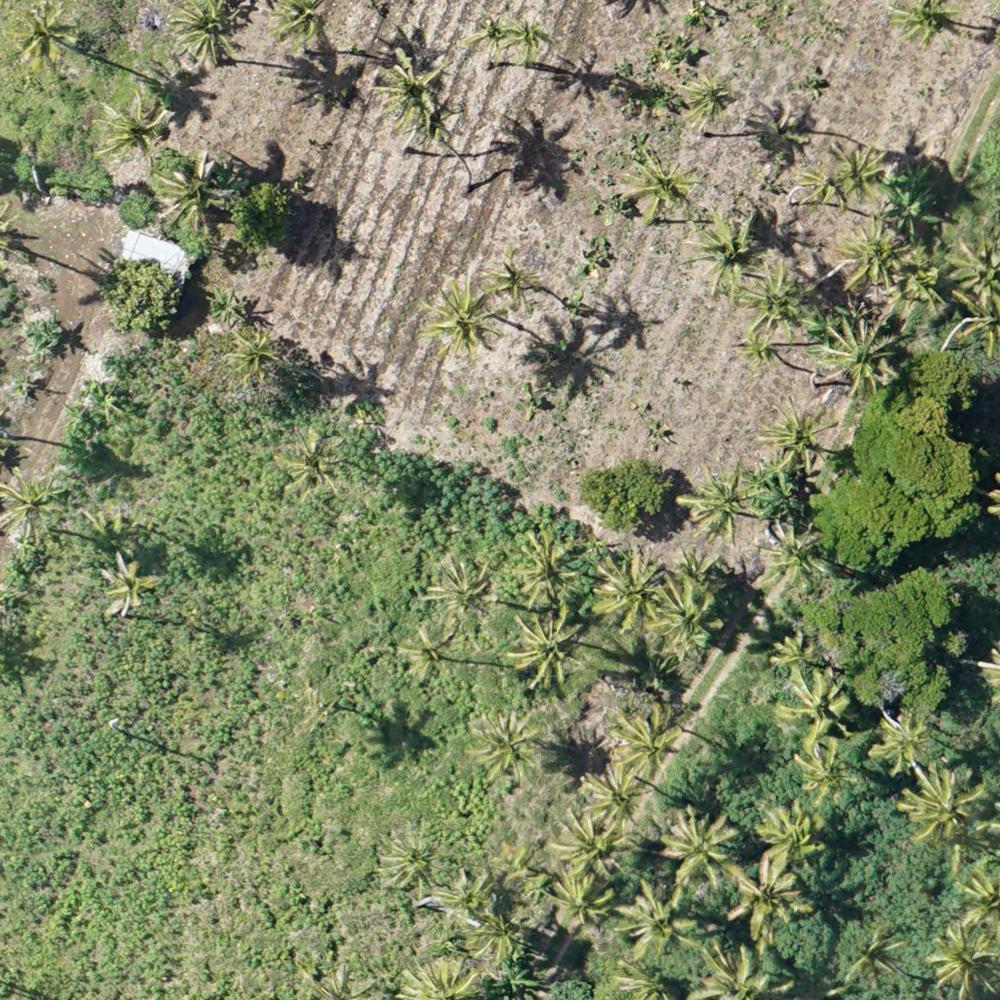Palm: (684, 206, 764, 299), (465, 705, 546, 790), (507, 608, 589, 690), (899, 766, 983, 844), (659, 805, 739, 883), (620, 879, 696, 960), (822, 316, 904, 391), (732, 855, 809, 934), (597, 543, 672, 624), (756, 396, 835, 472), (755, 516, 832, 591), (426, 282, 502, 357), (606, 702, 679, 779), (549, 809, 630, 878), (618, 144, 692, 218), (747, 259, 819, 335), (93, 92, 170, 163), (682, 462, 751, 541), (152, 157, 226, 226), (929, 923, 1000, 994), (779, 671, 853, 738), (3, 469, 64, 547), (168, 1, 241, 66), (381, 47, 445, 121), (655, 577, 719, 651), (517, 529, 580, 602), (9, 4, 79, 69), (273, 430, 340, 497), (396, 622, 464, 688), (839, 219, 903, 289), (579, 763, 646, 829), (426, 558, 493, 622), (548, 873, 622, 929), (756, 801, 825, 860), (835, 135, 896, 201), (96, 552, 157, 617), (796, 739, 859, 801), (438, 865, 497, 929), (949, 233, 1000, 303), (870, 712, 934, 765), (848, 928, 907, 983), (680, 66, 734, 124), (382, 832, 436, 890), (487, 250, 539, 310), (224, 331, 280, 385), (887, 1, 951, 47), (471, 914, 531, 963), (795, 160, 848, 214), (273, 2, 332, 49), (671, 546, 729, 592), (295, 685, 342, 732), (771, 631, 822, 672), (470, 10, 514, 56), (511, 10, 553, 58), (739, 331, 782, 373)
